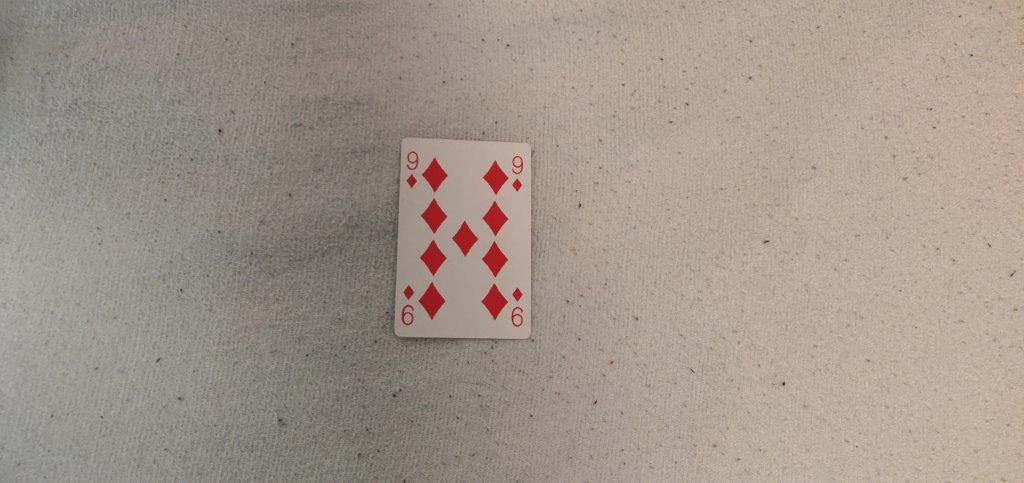9D: (508, 152, 527, 194), (403, 147, 420, 193)
